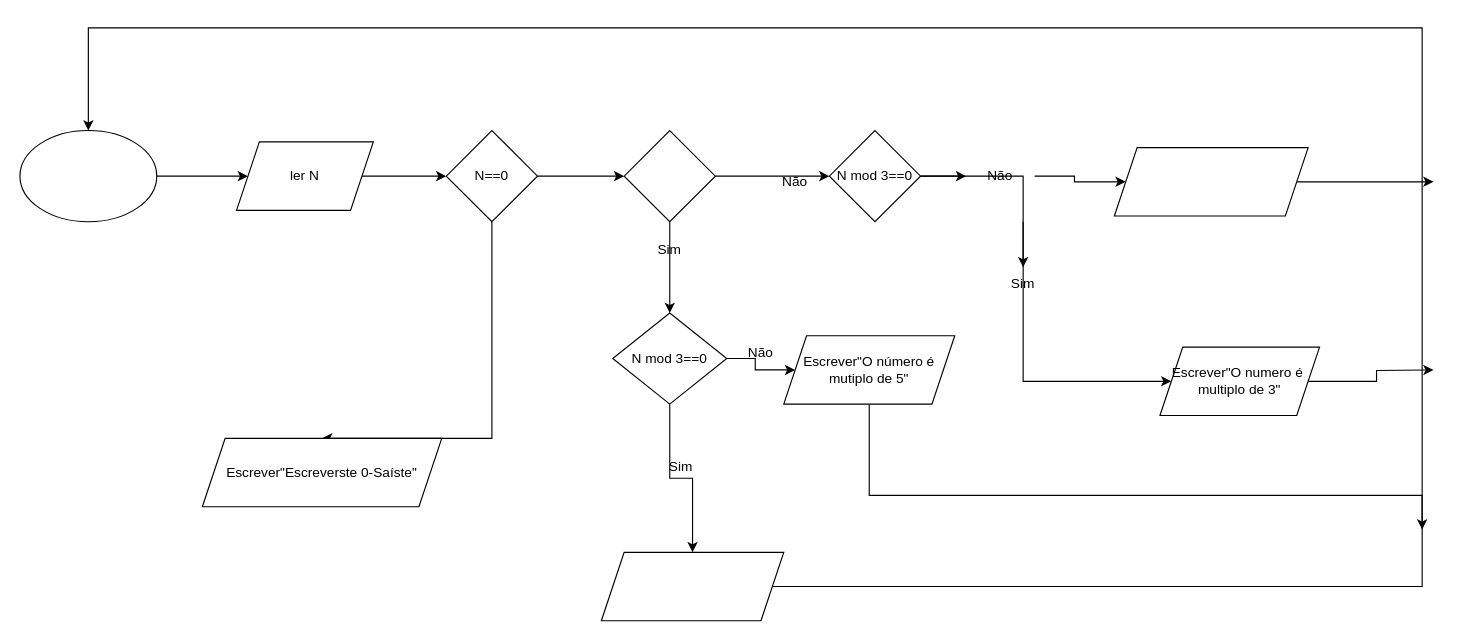
Image size: 1463x641. Some labels were removed from this diagram. Here are the shapes that lost their labels. From the top down, the centre of each, then its label:
the point at 88,175: Inincio
the point at 669,175: N mod 5==0
the point at 1210,181: Escreve"O numero não é mutiplo de 3 nem de 5"
the point at 692,586: Escrever"O numero é mutiplo de 3 e 5"
